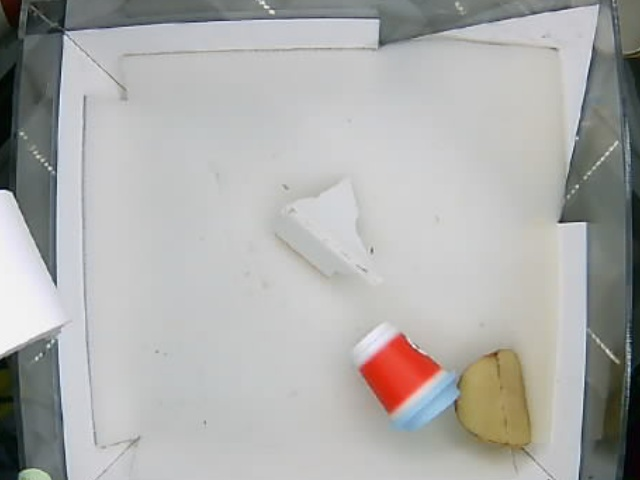China: (275, 179, 376, 286)
Cup: (354, 322, 463, 431)
Potato: (454, 350, 532, 451)
